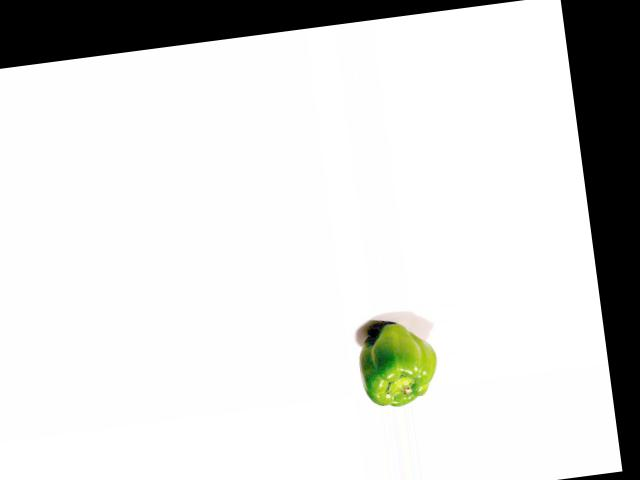bell_pepper: (352, 313, 444, 410)
